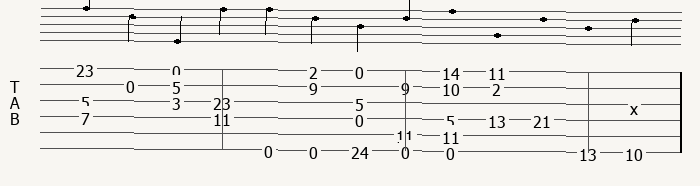0: (126, 78, 139, 94), (172, 62, 185, 78), (264, 142, 277, 158), (309, 142, 322, 158), (355, 110, 368, 126), (355, 62, 368, 78), (401, 142, 414, 158), (446, 142, 459, 158)
10: (442, 78, 464, 94), (625, 142, 647, 158)
11: (213, 110, 235, 126), (396, 126, 418, 142), (442, 126, 464, 142), (488, 62, 510, 78)
13: (488, 110, 510, 126), (579, 142, 601, 158)
14: (442, 62, 464, 78)
2: (309, 62, 322, 78), (492, 78, 505, 94)
21: (533, 110, 555, 126)
23: (76, 62, 98, 78), (213, 94, 235, 110)
24: (351, 142, 373, 158)
3: (172, 94, 185, 110)
5: (81, 94, 94, 110), (172, 78, 185, 94), (355, 94, 368, 110), (446, 110, 459, 126)
7: (81, 110, 94, 126)
9: (309, 78, 322, 94), (401, 78, 414, 94)
x: (630, 96, 642, 109)
